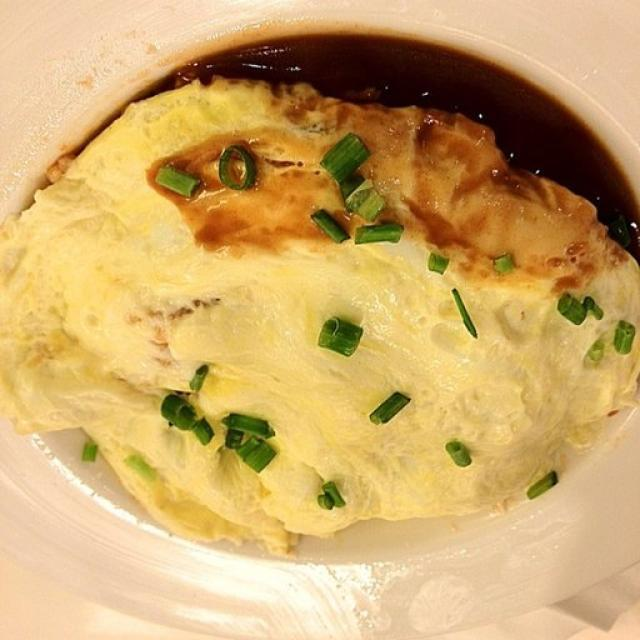telur_ayam_dadar: (0, 75, 639, 560)
